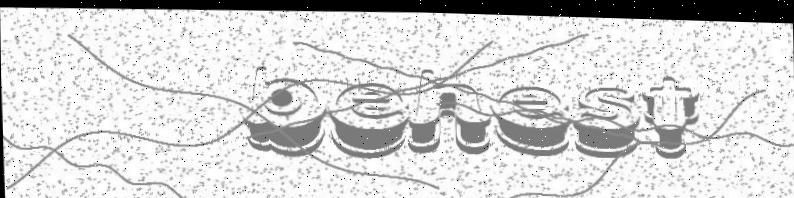b: (242, 63, 328, 156)
e: (325, 79, 408, 156), (491, 80, 569, 154)
h: (407, 64, 492, 154)
s: (569, 81, 641, 156)
t: (640, 69, 701, 156)
